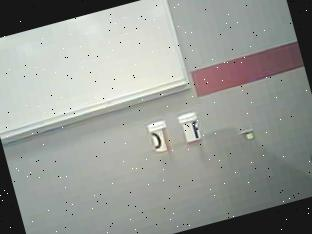Bottle D: (141, 118, 176, 162)
Bottle F: (174, 108, 209, 150)
